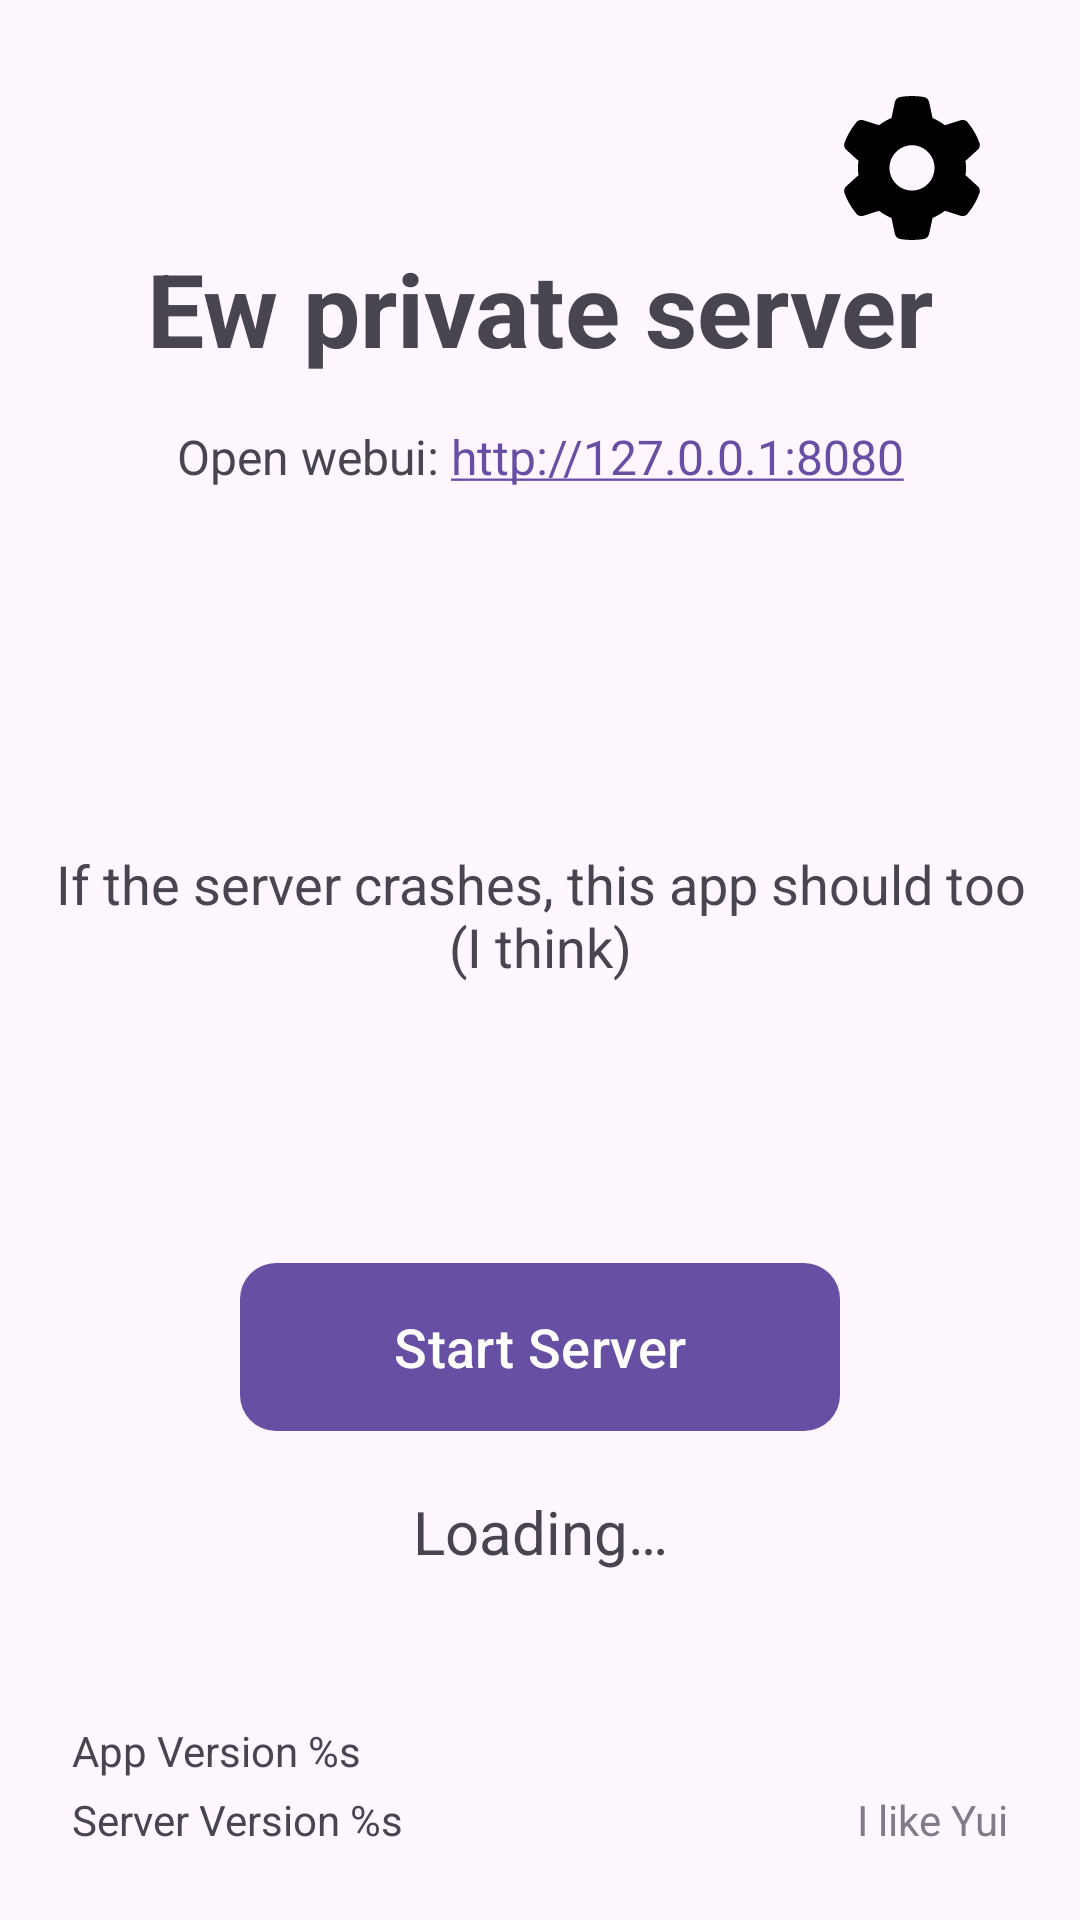

Named icons in this screenshot (1080px x 1920px) and their centers, (x=x, y=y):
Settings: (x=912, y=168)
